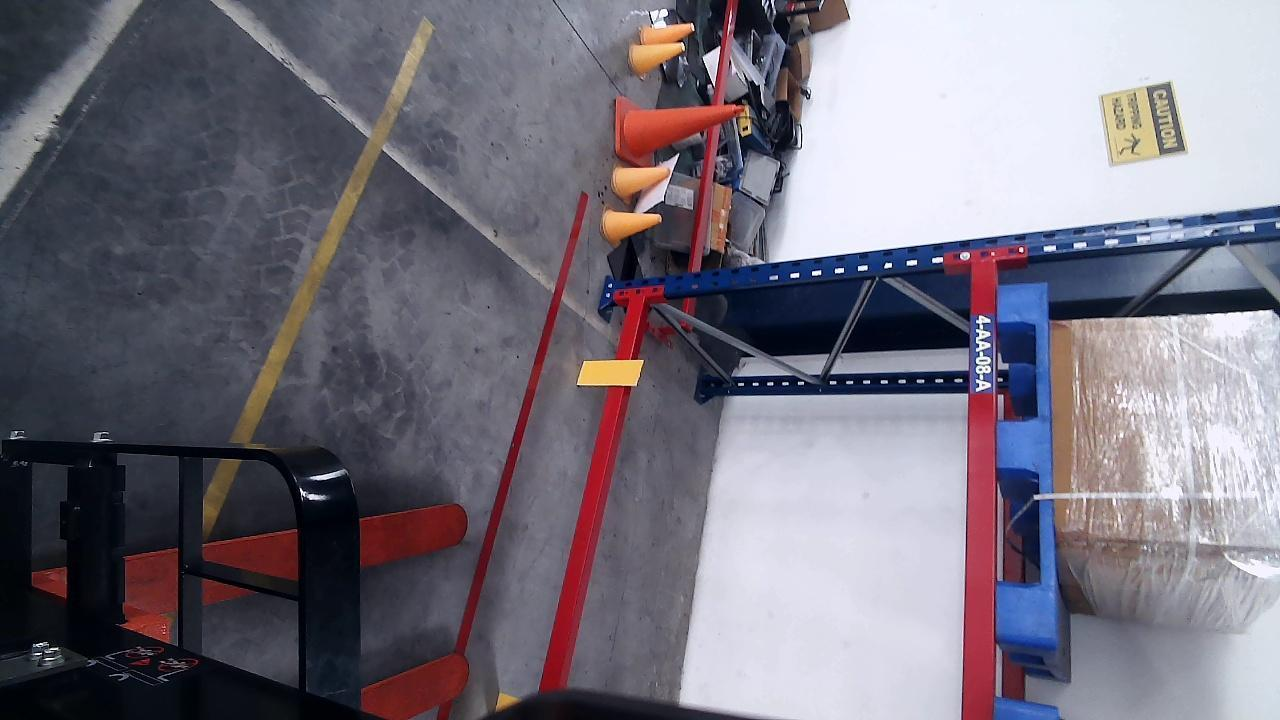red_line: (455, 192, 591, 656)
yellow_line: (230, 16, 437, 445)
